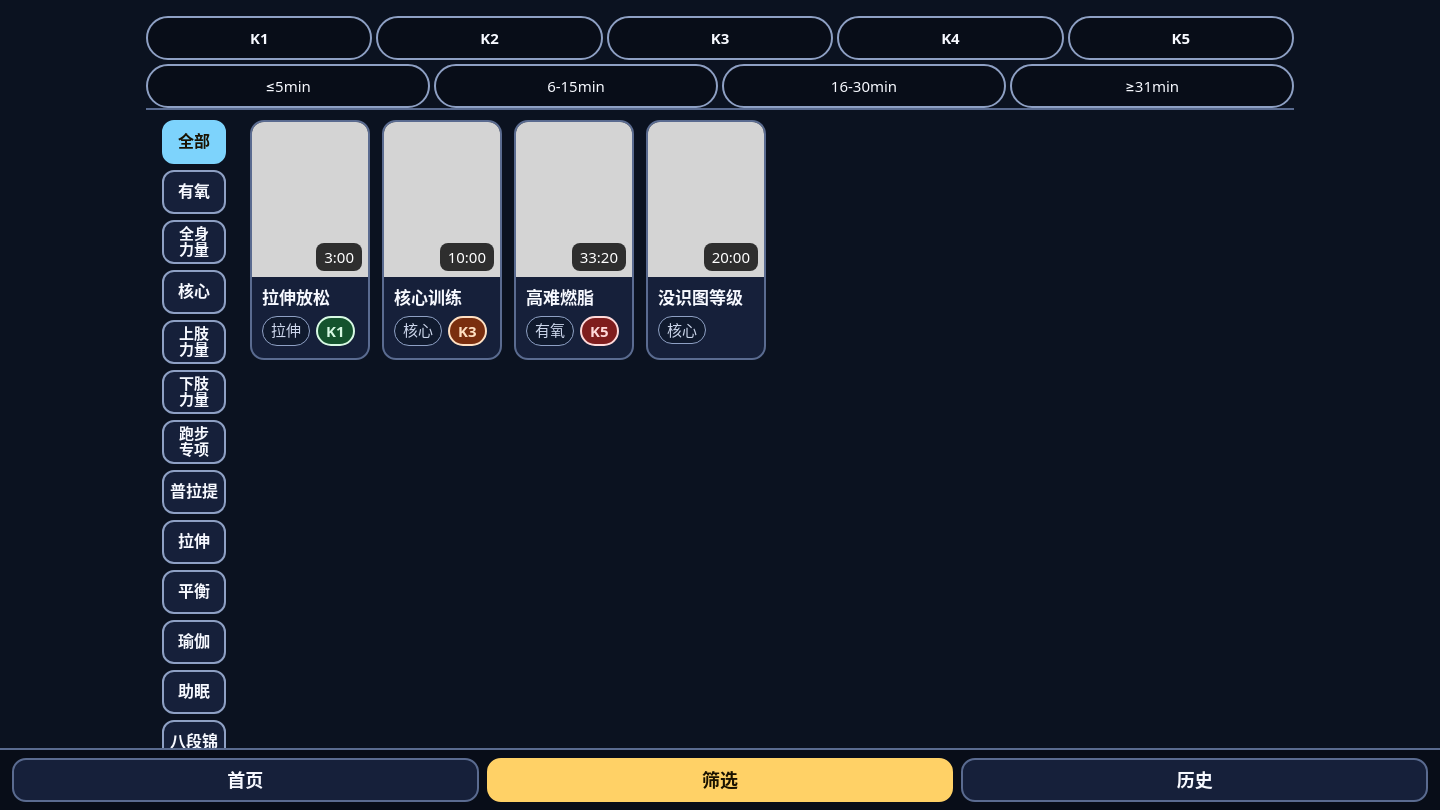
Find · 类型分类栏（单选） › 等级是单选：点 K3 会替换掉 K1，不是叠加
expect the element named "筛选结果" is shown: met, box [250,120,766,360]
Click the button "K1".
click(259, 38)  # box [146,16,372,60]
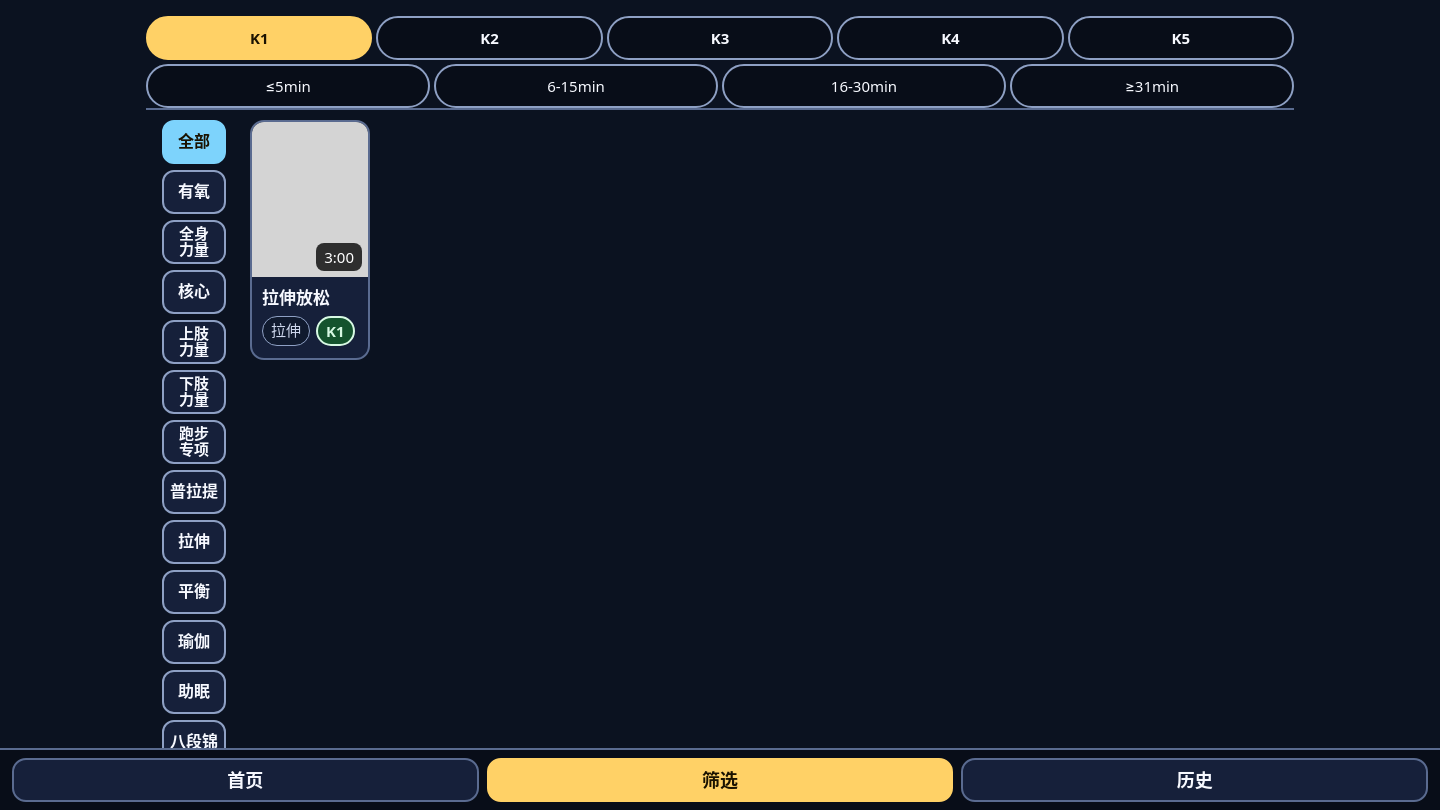
expect the button "K1" is pressed: met, box [146,16,372,60]
Click the button "K3".
click(720, 38)  # box [607,16,833,60]
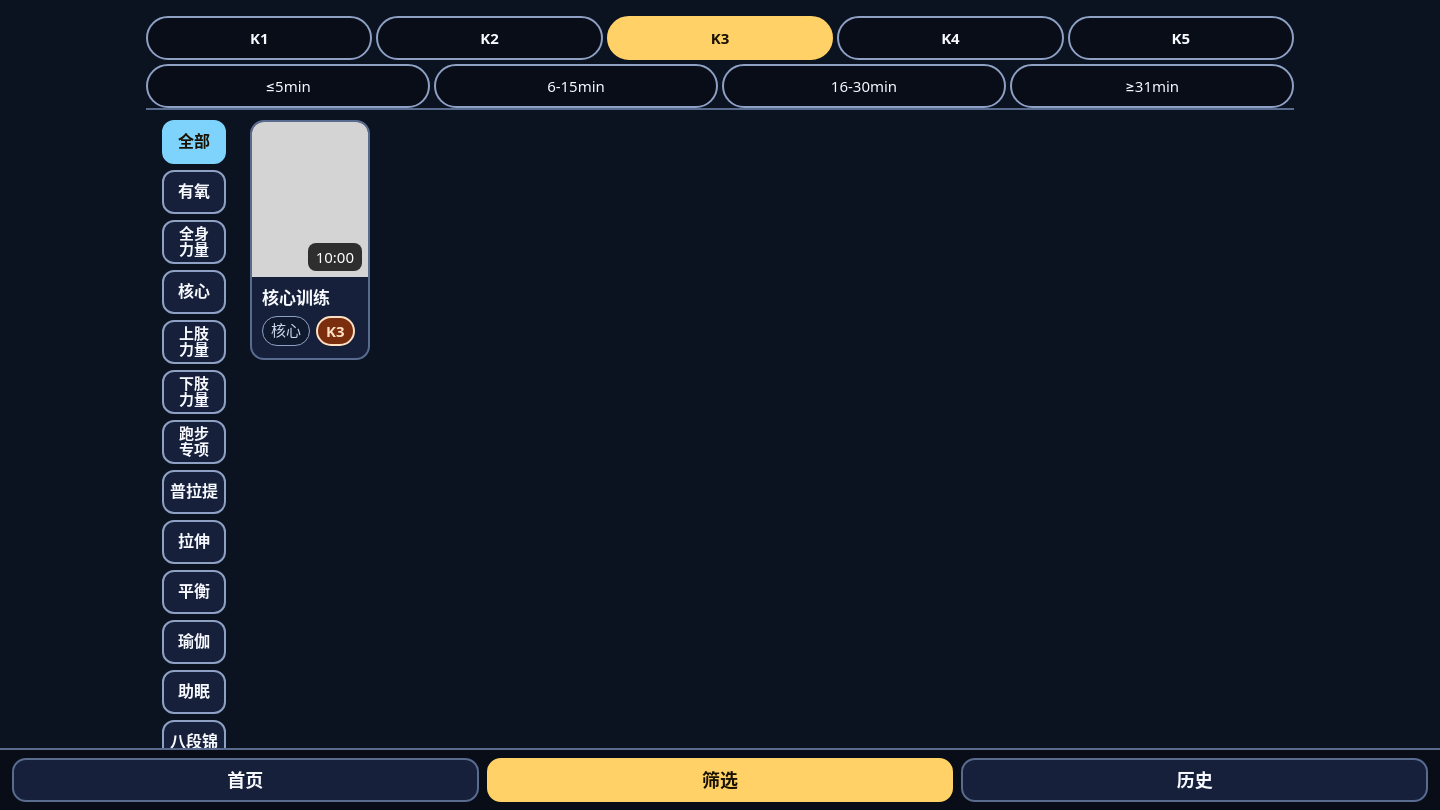
expect the text "核心训练" is shown: met, box [262,286,330,309]
expect the link "拉伸放松" is gone: met
